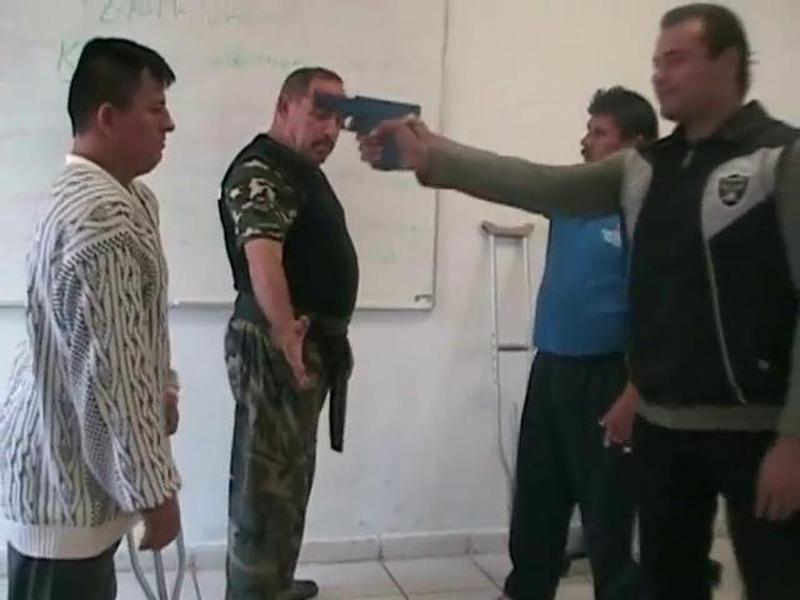Pistola: (340, 79, 435, 179)
